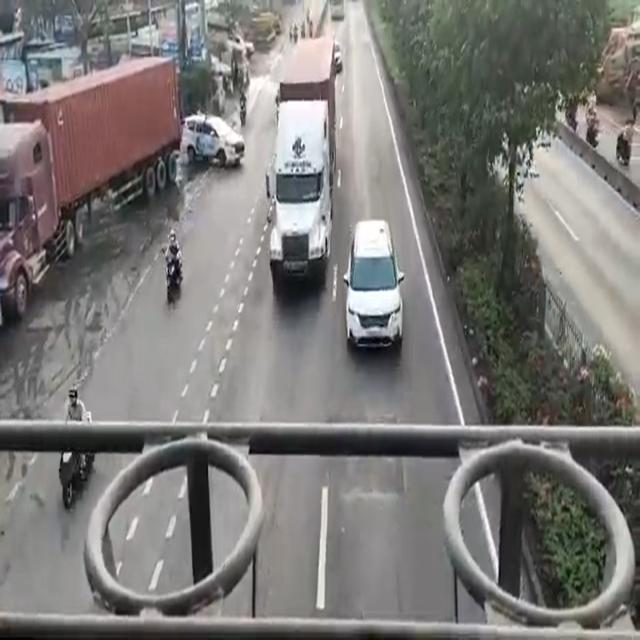car: (345, 222, 399, 349), (185, 109, 238, 166)
motor: (164, 248, 184, 307)
truck: (0, 54, 178, 286), (272, 38, 330, 292)
